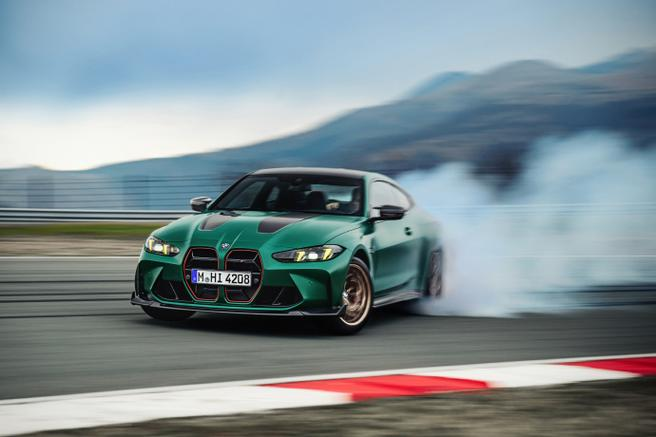汽车: (108, 154, 465, 332)
